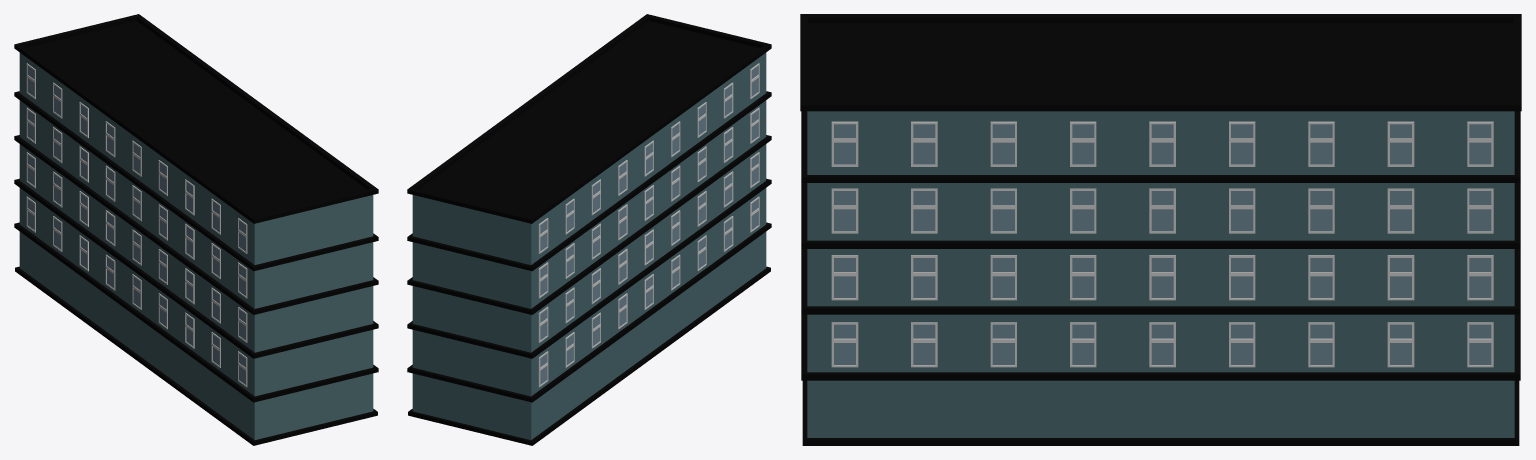
The model's file is app grey.fbx.
3 renders of one model, left to right at view 1: azimuth 30°, elevation 25°; view 2: azimuth 150°, elevation 25°; view 3: azimuth 270°, elevation 25°, orthographic. The views are drawn at different scales.
Visible parts, largest first — view 1: appartment blue/grey; view 2: appartment blue/grey; view 3: appartment blue/grey.
Boxes of the visible parts, box(x1,y1,x2,y2) form: appartment blue/grey: box(14, 14, 378, 445); appartment blue/grey: box(407, 14, 771, 445); appartment blue/grey: box(800, 14, 1521, 445).
Size of the model in its own units: 6.78 by 11.76 by 22.57.
